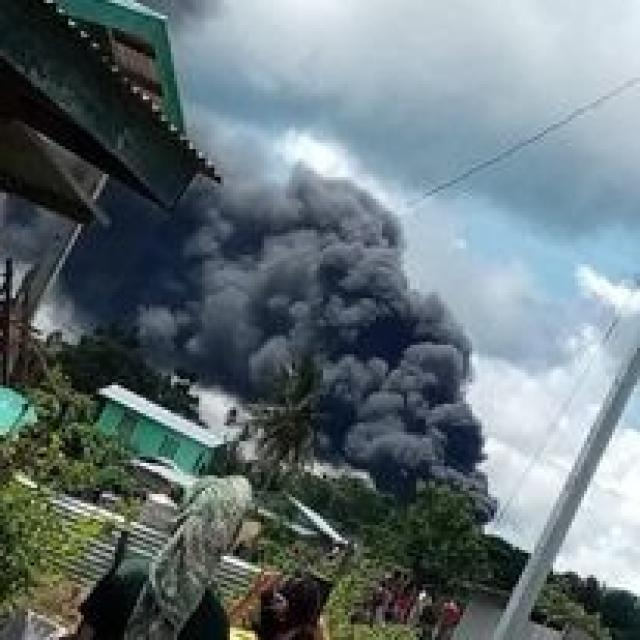Smoke: (210, 159, 500, 530), (48, 167, 209, 390), (0, 190, 50, 276)
